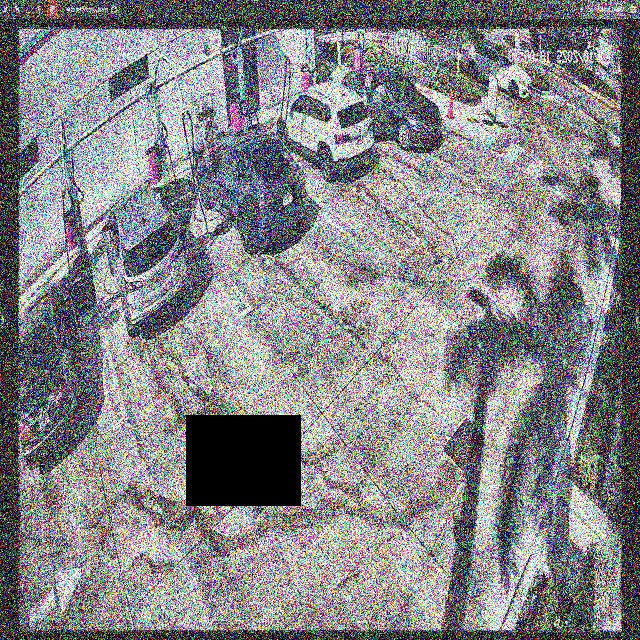Car: (105, 174, 197, 330), (195, 127, 305, 253), (341, 67, 446, 153), (275, 84, 371, 177)
